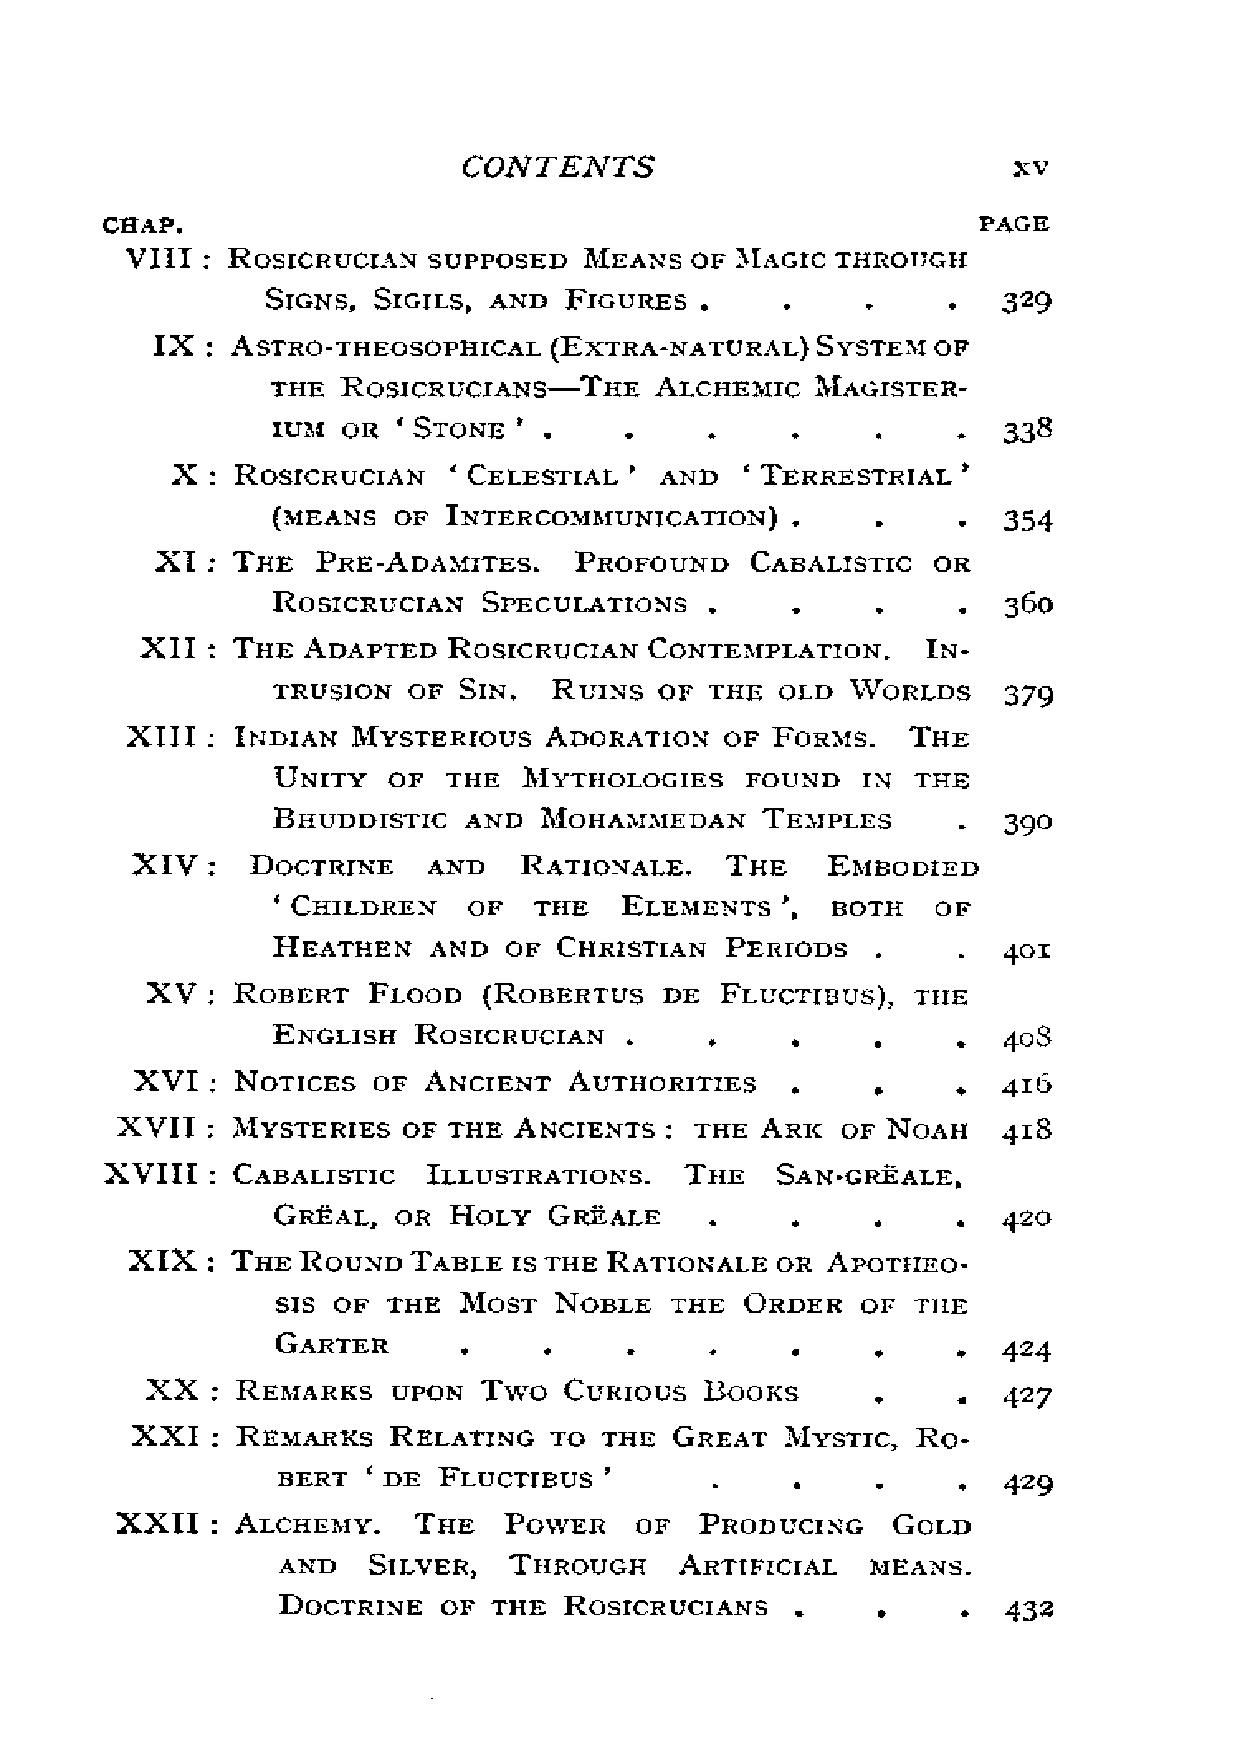TOC_chapter: (121, 843, 978, 968), (125, 718, 973, 836), (107, 1508, 976, 1622), (130, 1241, 972, 1357), (148, 329, 973, 446), (130, 974, 981, 1060), (137, 625, 976, 710), (156, 541, 978, 625), (101, 1157, 969, 1232), (130, 1417, 972, 1494), (115, 240, 972, 315), (169, 458, 953, 539), (115, 1111, 976, 1149), (144, 1369, 807, 1410), (125, 1063, 770, 1104)
TOC_pagenumber: (992, 274, 1062, 322), (994, 582, 1062, 625), (998, 926, 1060, 972), (997, 674, 1062, 713), (997, 804, 1057, 840), (998, 503, 1057, 539), (1002, 1463, 1056, 1500), (997, 1381, 1062, 1410), (1004, 1596, 1062, 1628), (998, 1335, 1053, 1369), (1002, 413, 1056, 447), (997, 1205, 1056, 1235), (998, 1115, 1051, 1147), (997, 1072, 1056, 1099), (997, 1027, 1053, 1053)
chapter: (452, 137, 660, 187)
